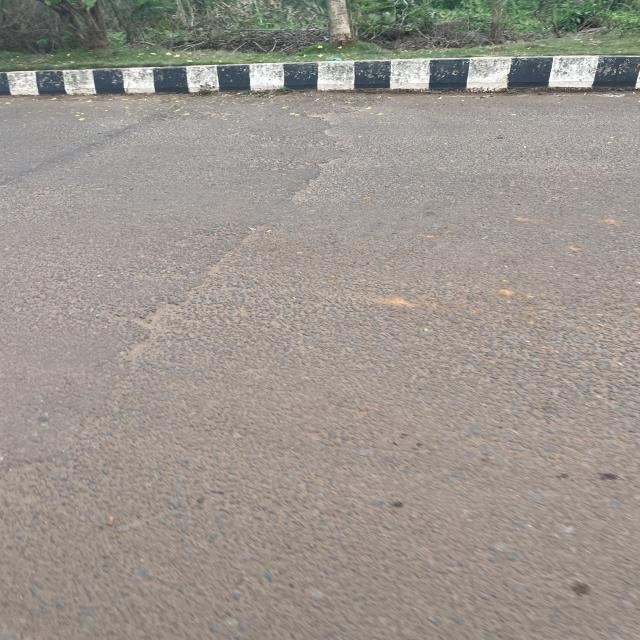D11: (88, 162, 266, 464)
